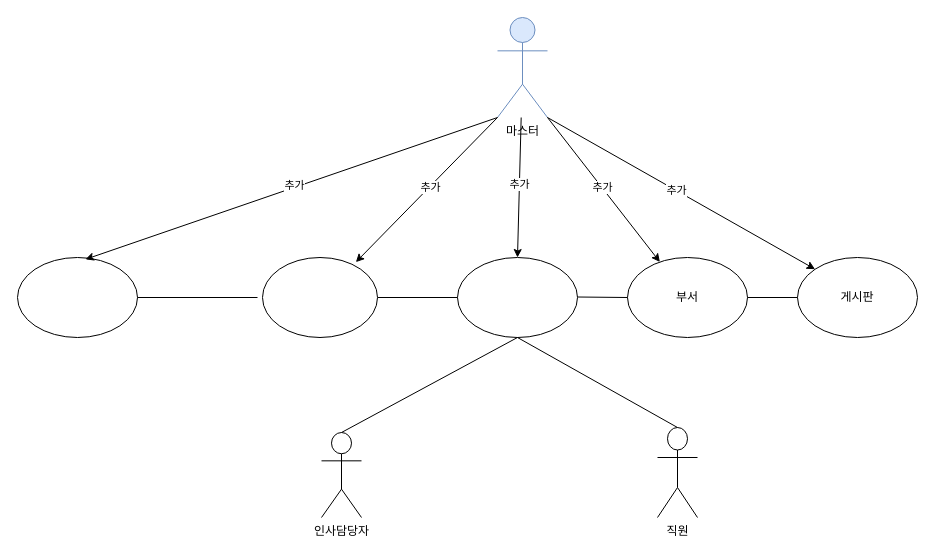
This 935x556 diagram has some shape labels left out. The shapes that lost their labels are listed below. From the top down, each one's box as (x1, y1, x2, y2) in pixels, then its label:
(16, 256, 138, 338): 직급
(262, 256, 378, 338): 직책
(456, 256, 578, 338): 역할
